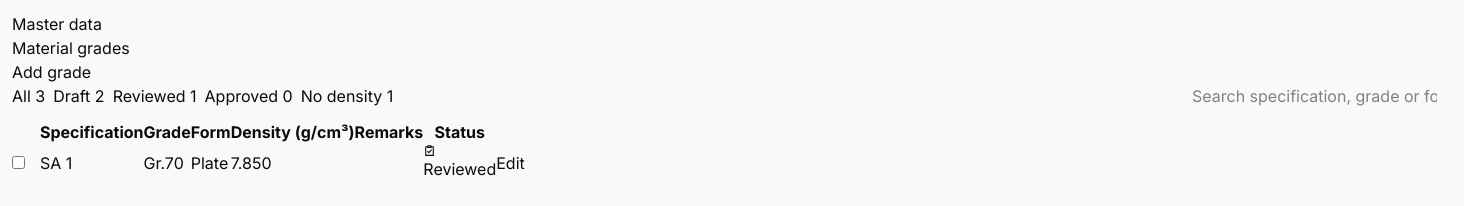
editing › warns that saving a reviewed grade returns it to draft, and hints at kg/m³
Step 1. Click the button "Edit" → x=510, y=162, box [496,150,525,174]
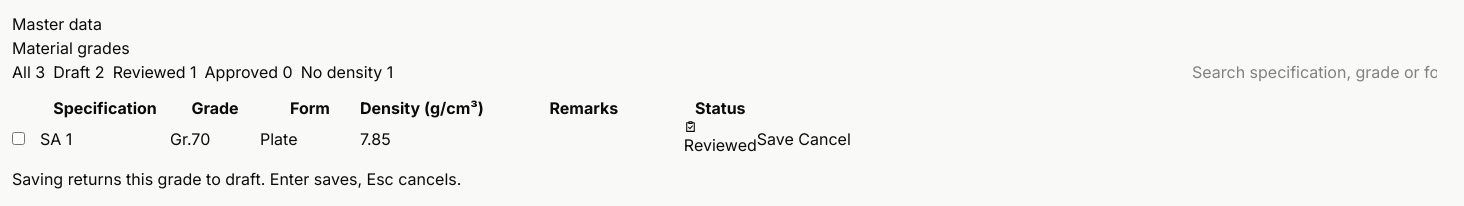
Now the text "Saving returns this grade to draft" is shown, box [12,169,270,189]
Step 2. Replace the text in the field named "Density (g/cm³)" with "7850" → x=400, y=138, box [360,126,440,150]
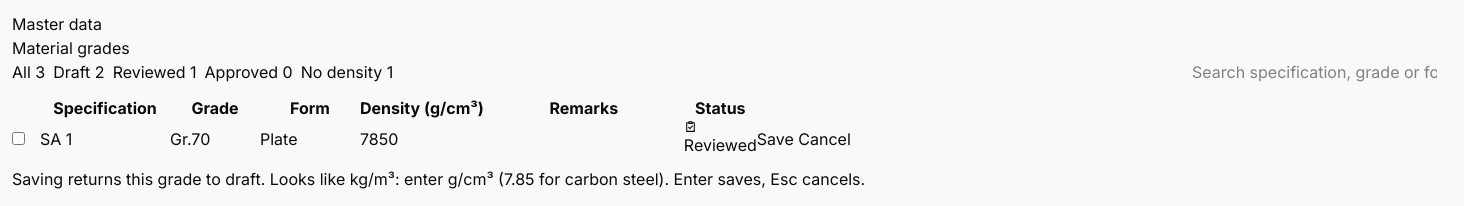
Now the text "Looks like kg/m³" is shown, box [270,169,674,189]
